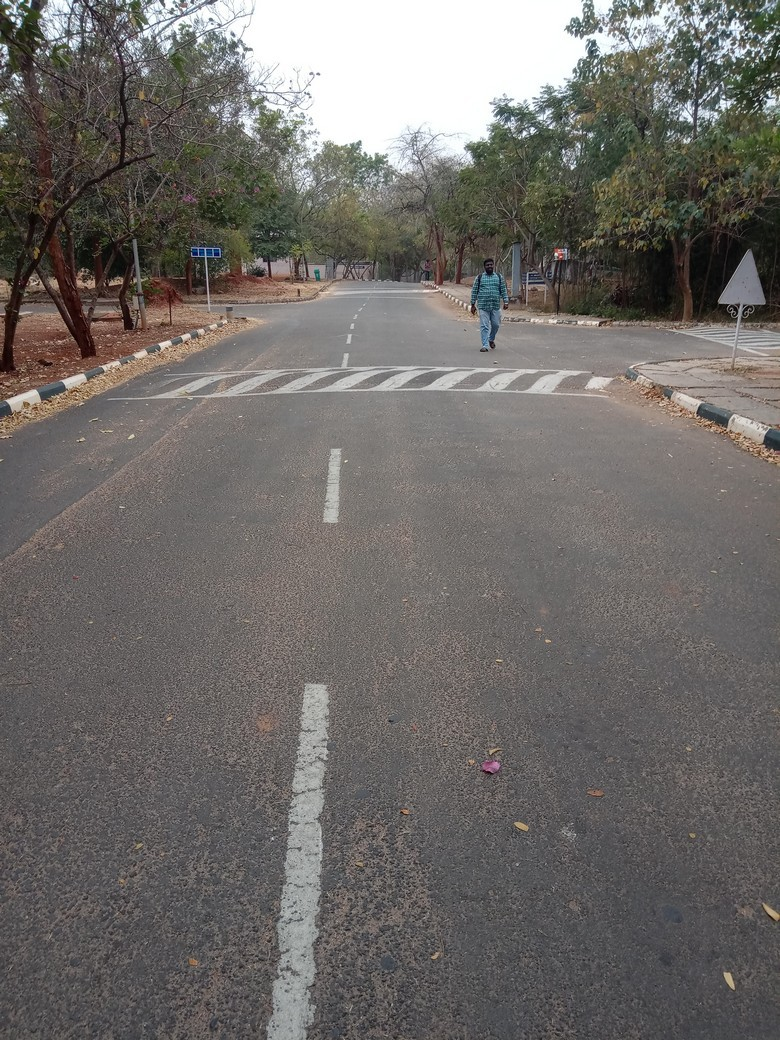bump: (81, 364, 638, 399)
